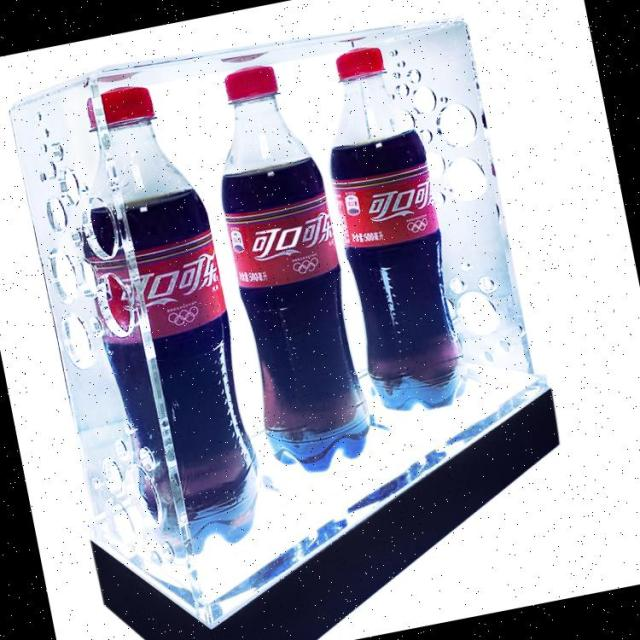coca-cola: (52, 68, 268, 540), (196, 58, 379, 463), (303, 34, 477, 421)
